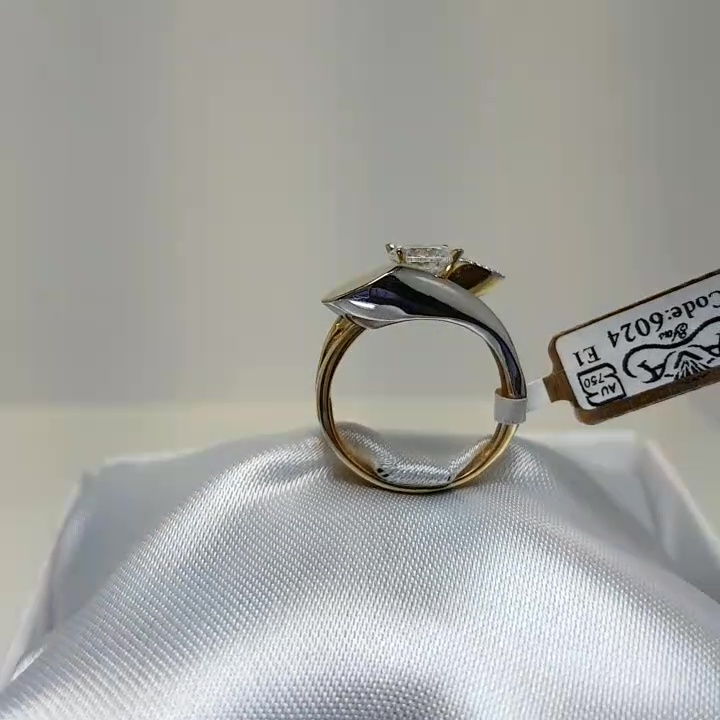Ring 7: (295, 211, 565, 522)
